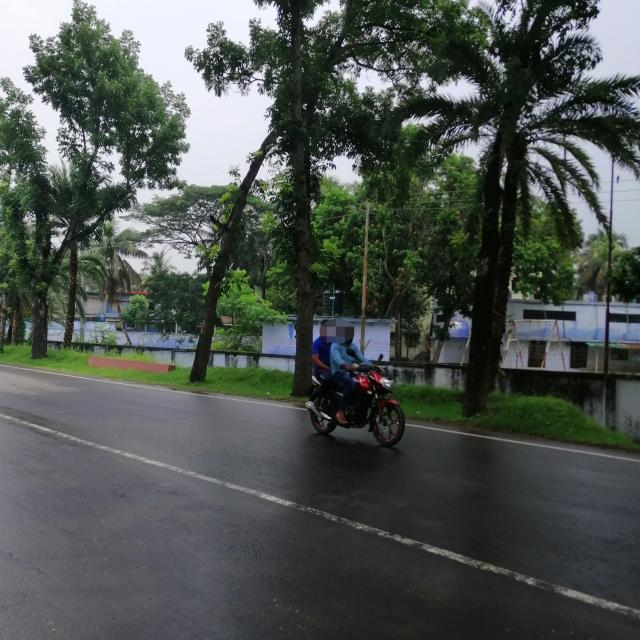Motorbike: (299, 362, 424, 447)
